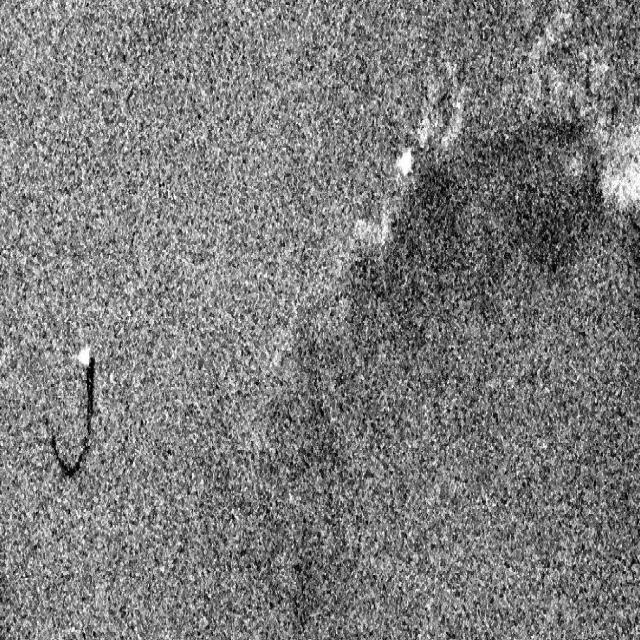look-alike: (339, 101, 611, 356)
oil-spill: (44, 359, 102, 482)
ship: (76, 338, 92, 367)
